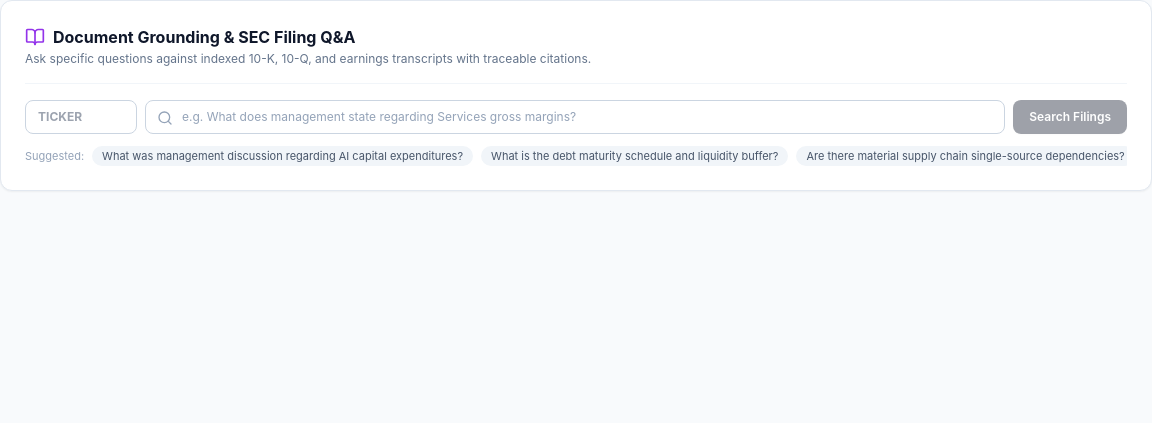
Test case: Research Document Upload & Grounding (Phase 16.8) › allows Q&A query against documents and renders source citations
This screenshot has width=1152, height=423.
Check: the element with test id "research-qa-interface" is shown, box [0, 0, 1151, 191]
Replace the text in the field with placeholder "What does management state regarding Services gross margins" with "What did management say about AI capex?" at (575, 117), box [145, 100, 1005, 134]
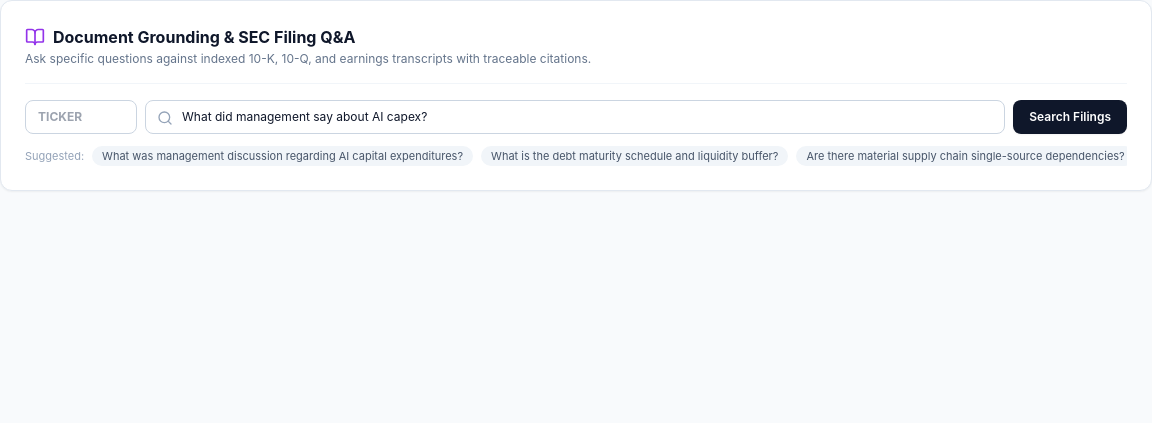
Click the button "Search Filings".
click(1070, 117)  # box [1013, 100, 1127, 134]
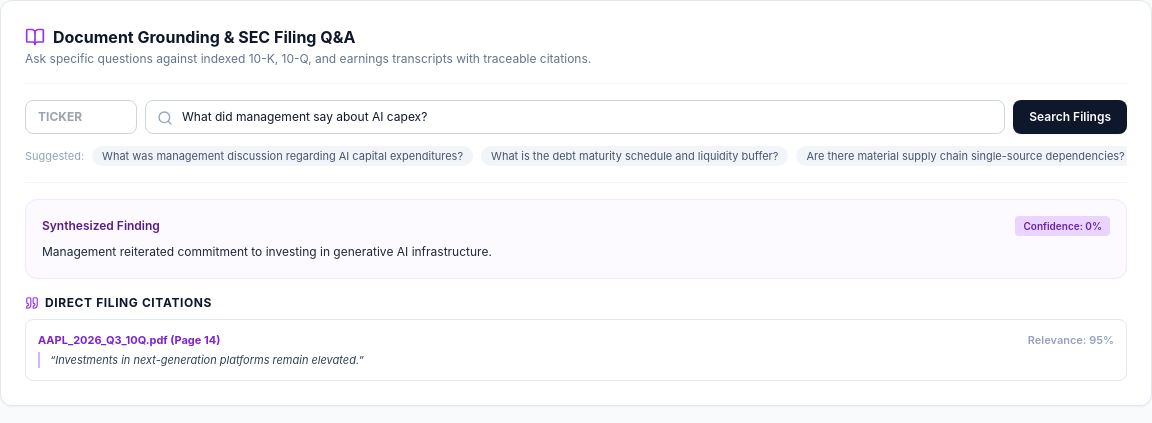
Check: the element with test id "research-qa-result" is shown, box [25, 182, 1127, 380]
Check: the heading "Direct Filing Citations" is shown, box [25, 294, 212, 310]
Check: the text "AAPL_2026_Q3_10Q.pdf (Page 14)" is shown, box [38, 332, 220, 348]
